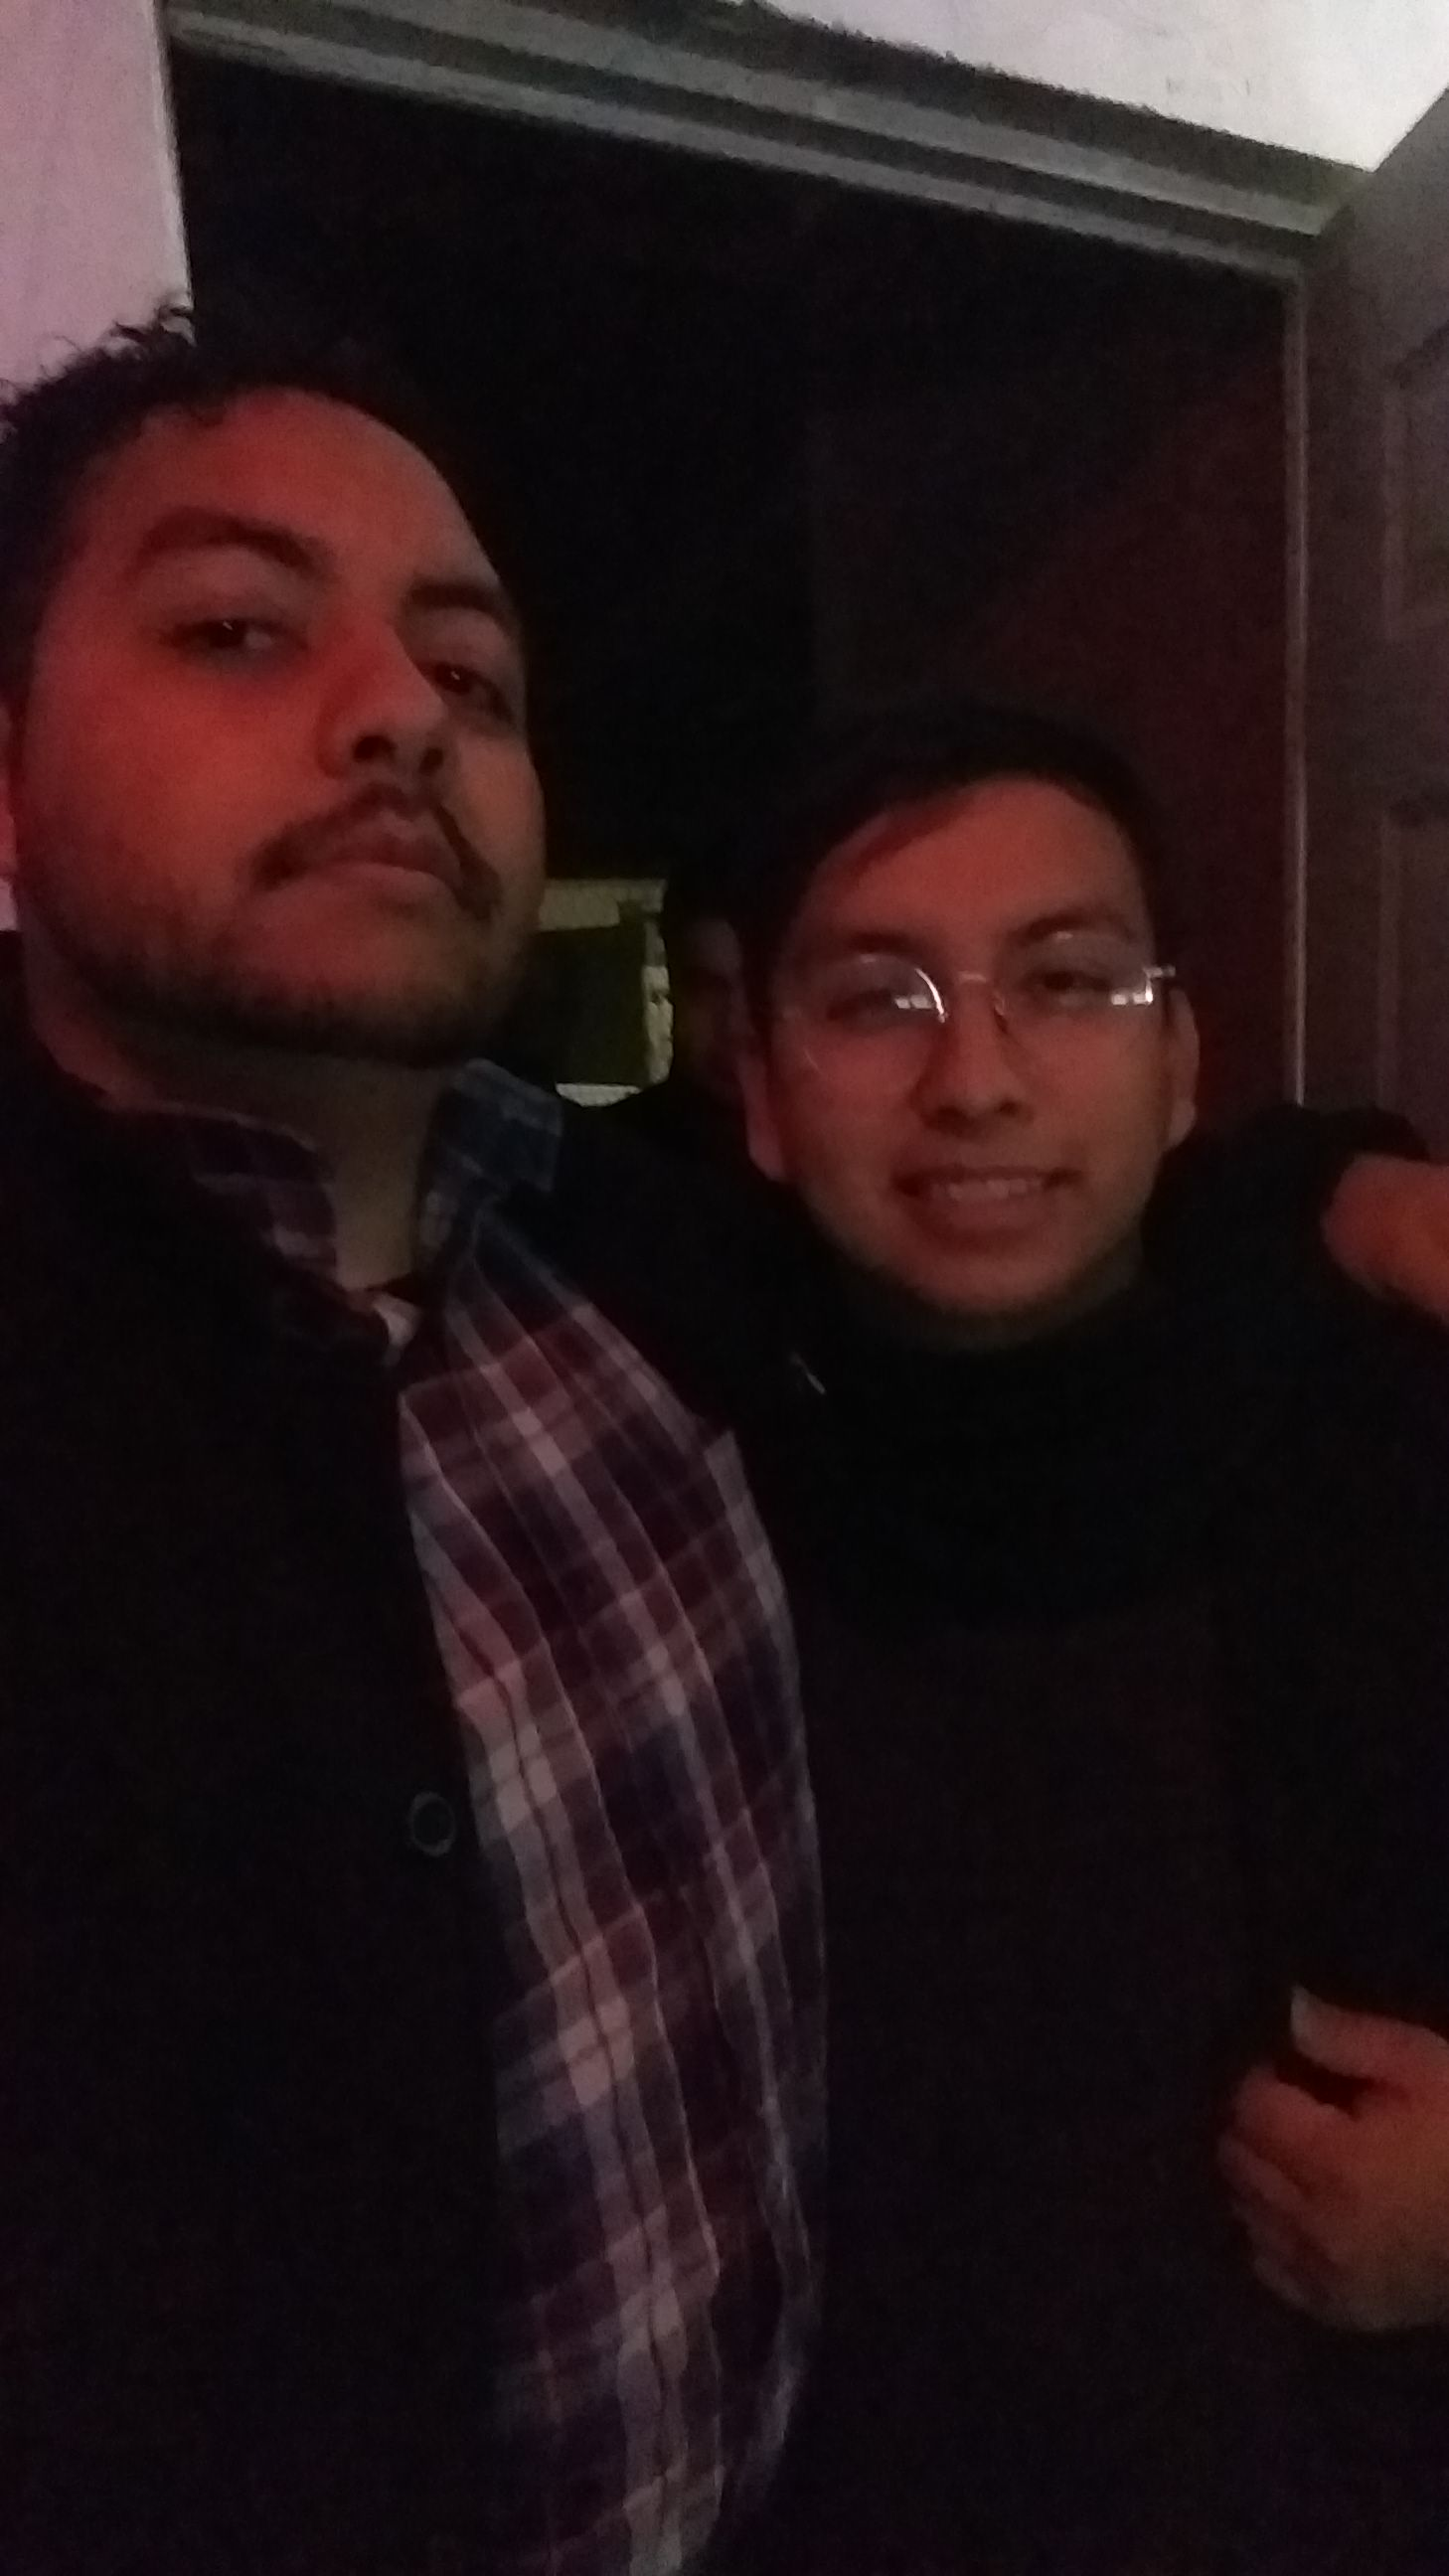Yoshi: (4, 280, 658, 1691)
